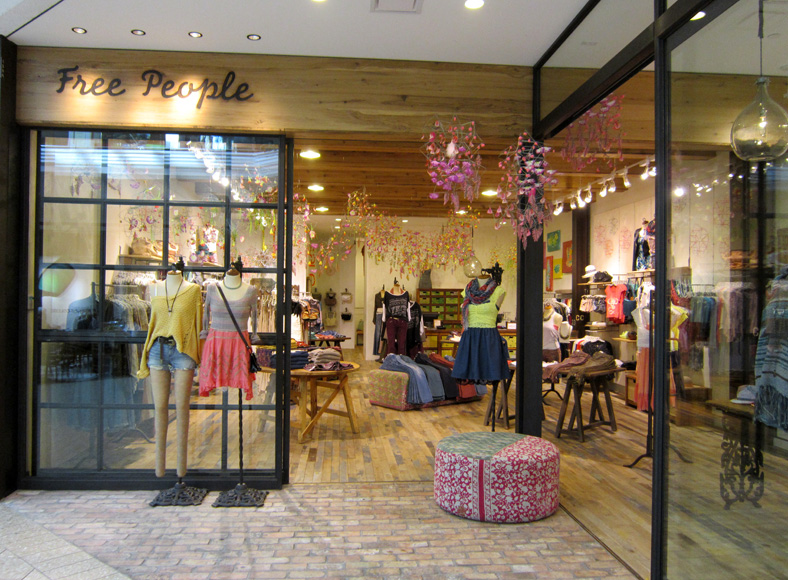Not_Face: (217, 268, 251, 290), (161, 261, 189, 284), (471, 269, 502, 288), (389, 277, 413, 291)
